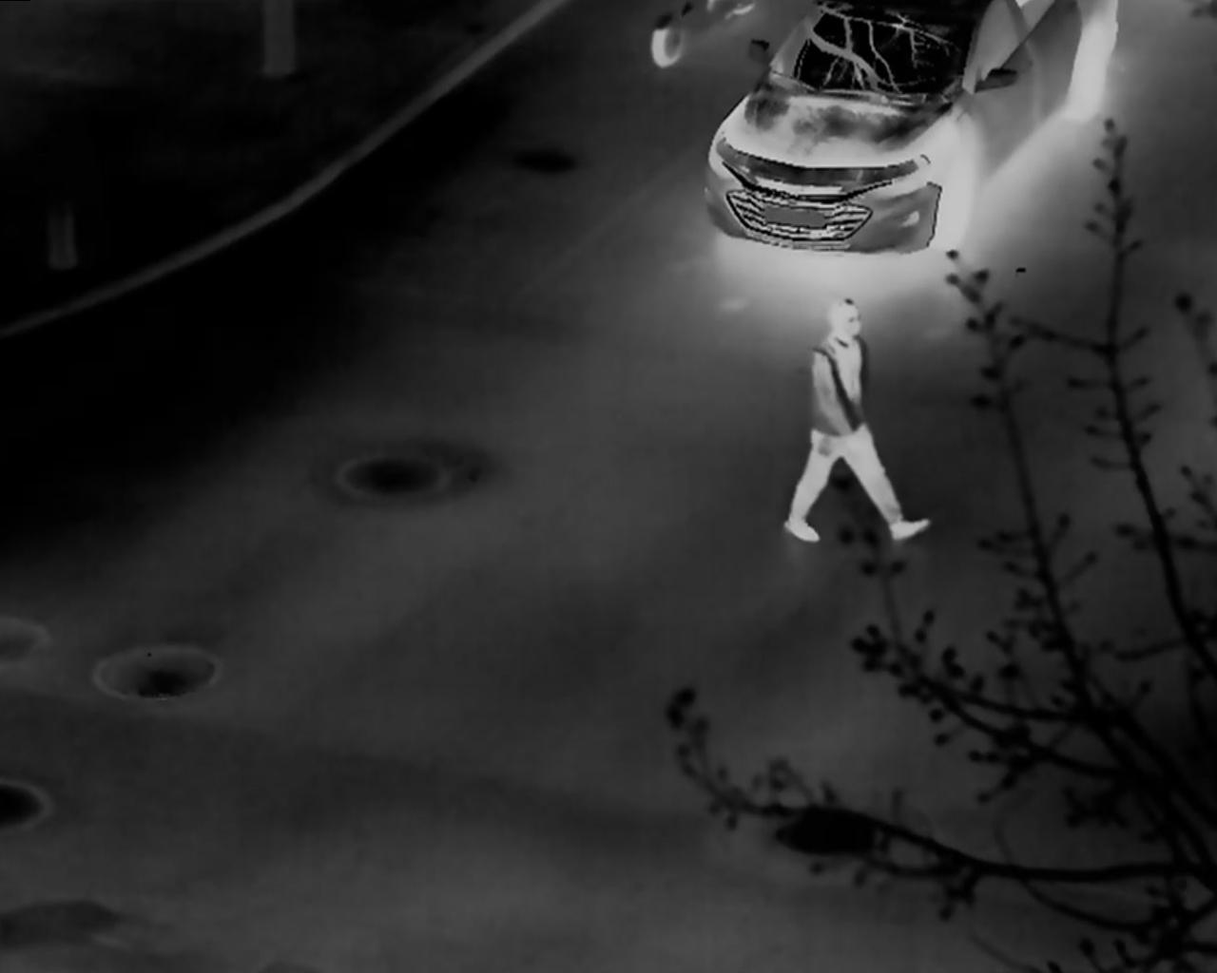person: (784, 297, 928, 542)
